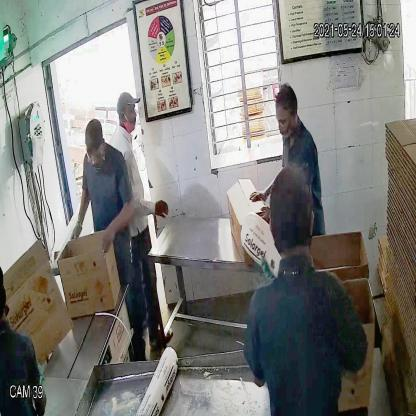goggles: (84, 144, 104, 164)
